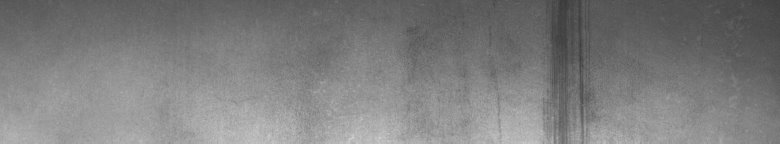ka: (535, 4, 601, 136)
